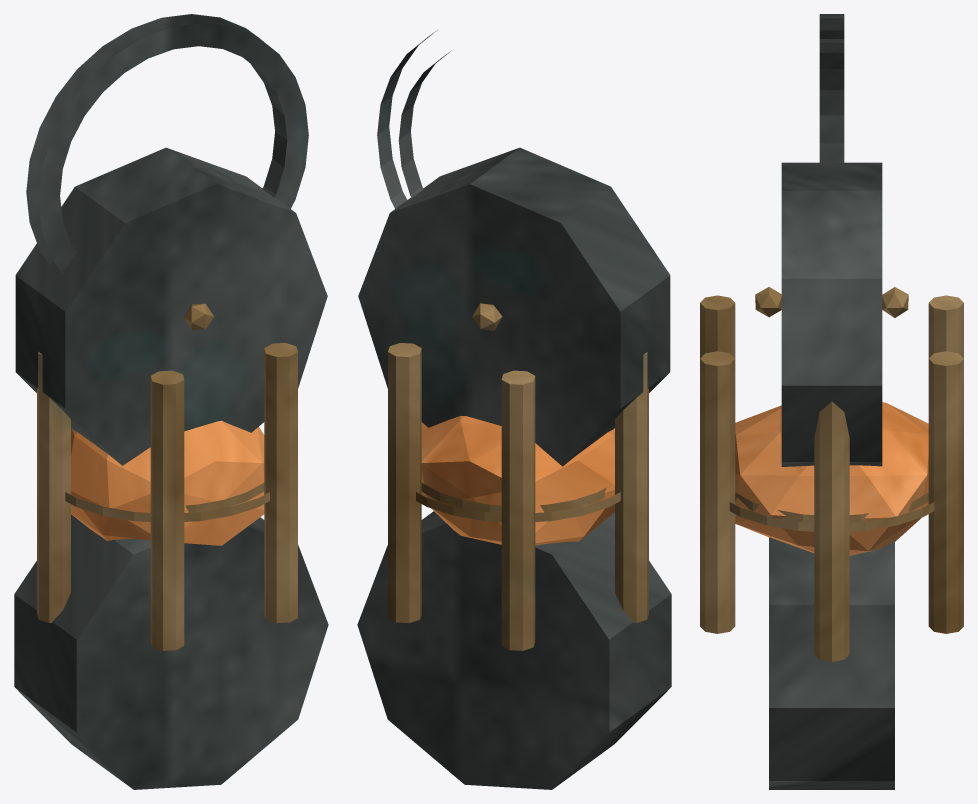
File: 0918_lantern_18.glb
3 views of the same model, side by side, from view 1: azimuth 30°, elevation 25°; view 2: azimuth 150°, elevation 25°; view 3: azimuth 270°, elevation 25° (orthographic).
Visible parts, largest first — view 1: iron, brass, amber; view 2: iron, brass, amber; view 3: iron, brass, amber.
Part boxes in pixels (<box>): iron: <box>14,14,328,789</box>; brass: <box>37,303,297,650</box>; amber: <box>71,420,264,545</box>; iron: <box>357,30,671,789</box>; brass: <box>388,303,648,650</box>; amber: <box>421,416,614,545</box>; iron: <box>769,14,894,789</box>; brass: <box>700,287,963,661</box>; amber: <box>735,402,928,555</box>.
Size of the model in its own units: 0.5 by 1.32 by 0.4197.
3 materials, 3 textured.
